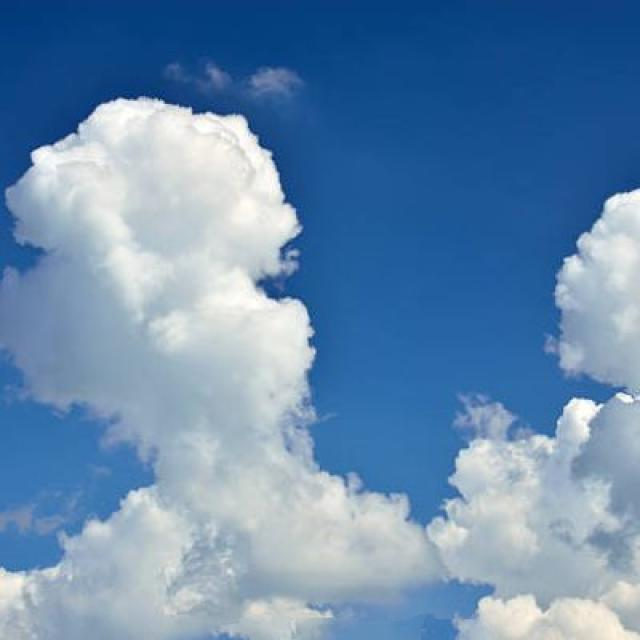Cu: (5, 81, 640, 639)
